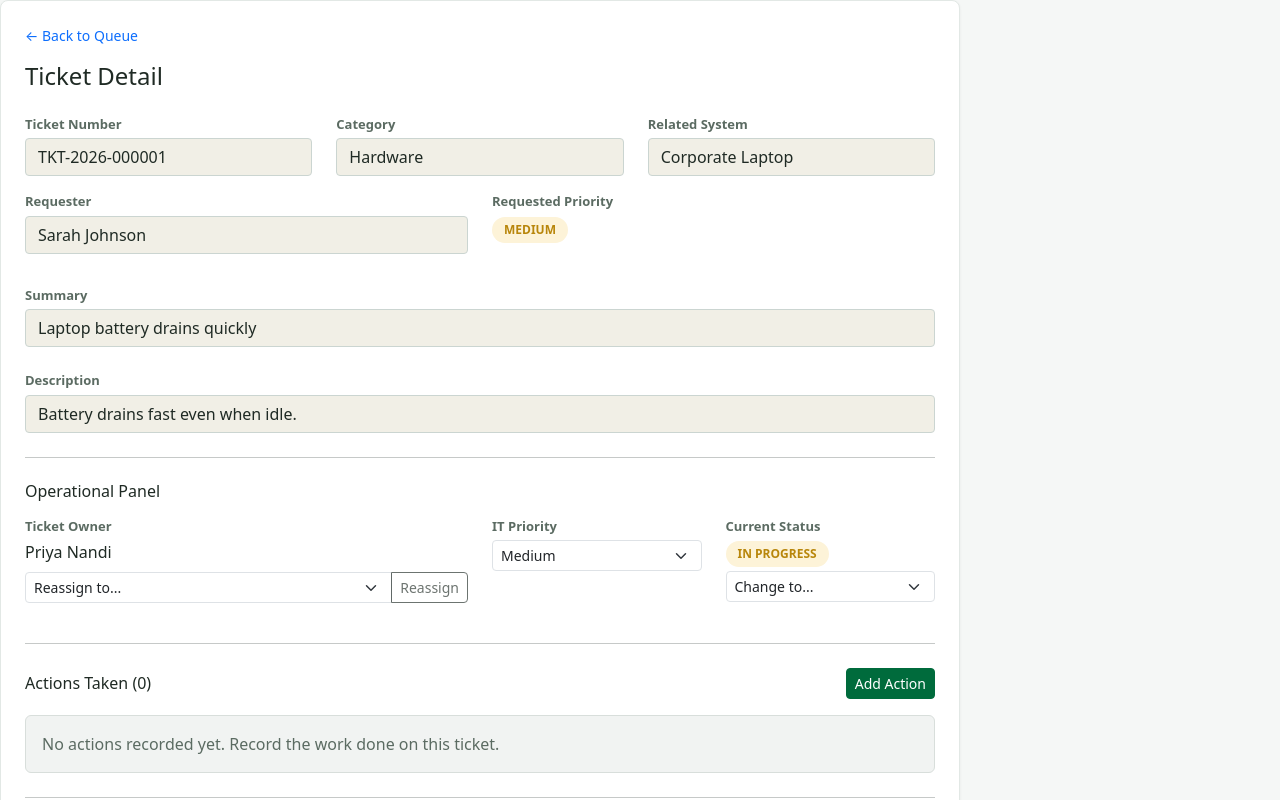
StaffTicketDetail (UI-04) › Reassign shows a refresh message on OWNERSHIP_CHANGED and reloads the ticket
The width and height of the screenshot is (1280, 800).
Select "Alex Kim" in the dropdown named "reassign to" at (209, 588), box [25,572,392,604]
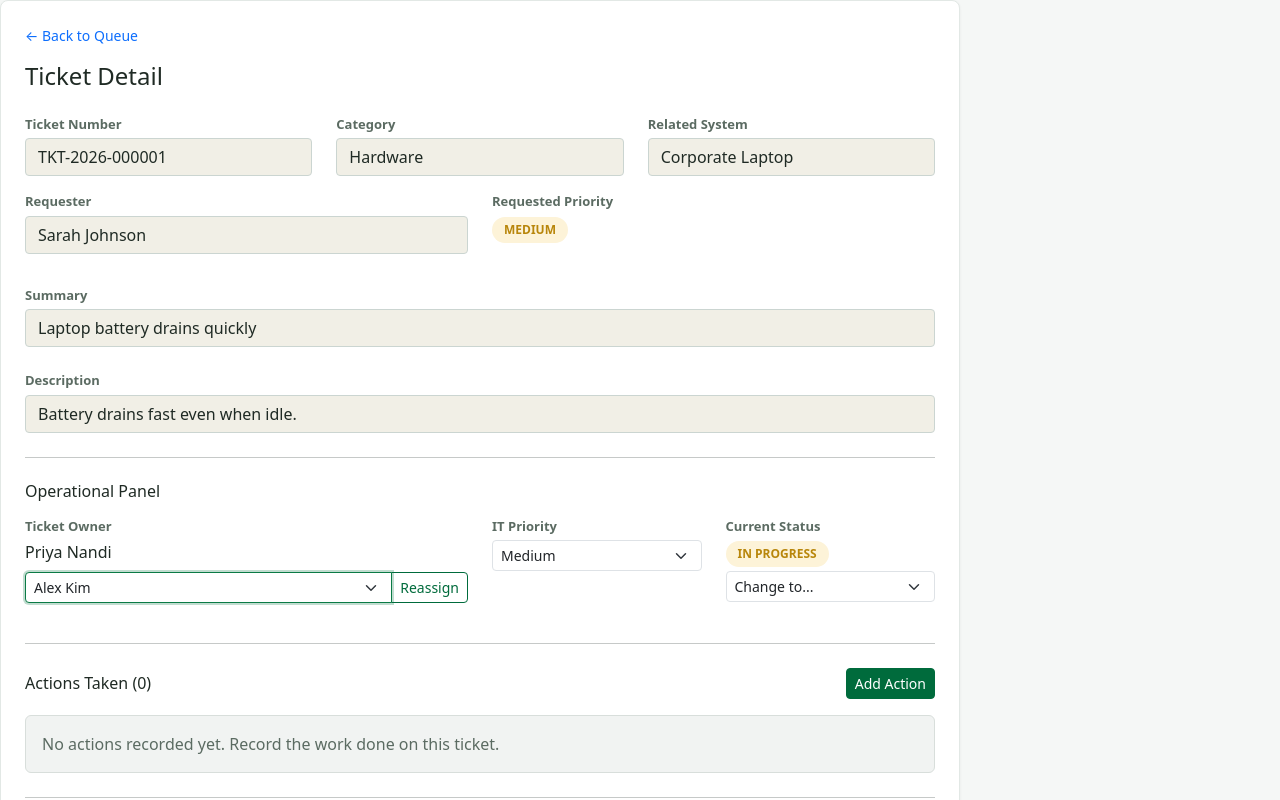
Click the button "Reassign" at (430, 588), box [391,572,468,604]
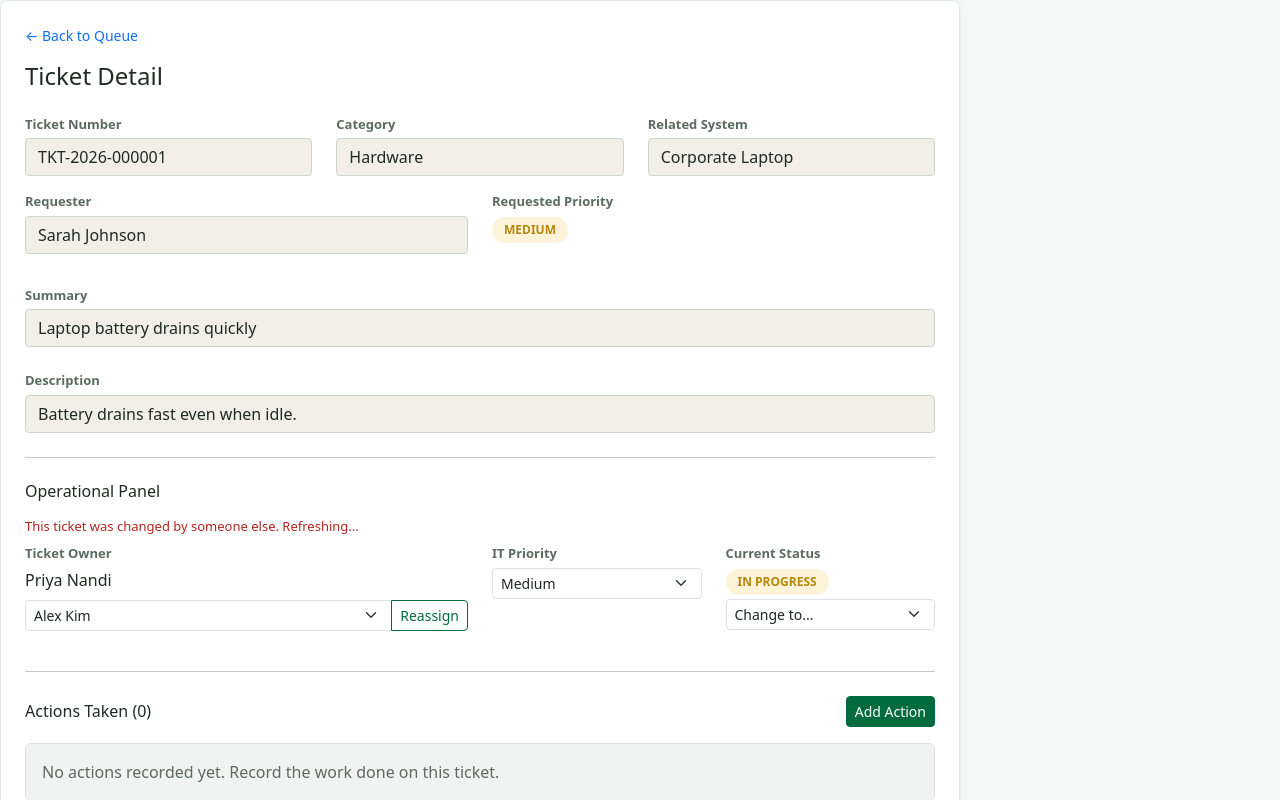
Expected: the text "This ticket was changed by someone else. Refreshing..." is shown, [25,517,359,535]
